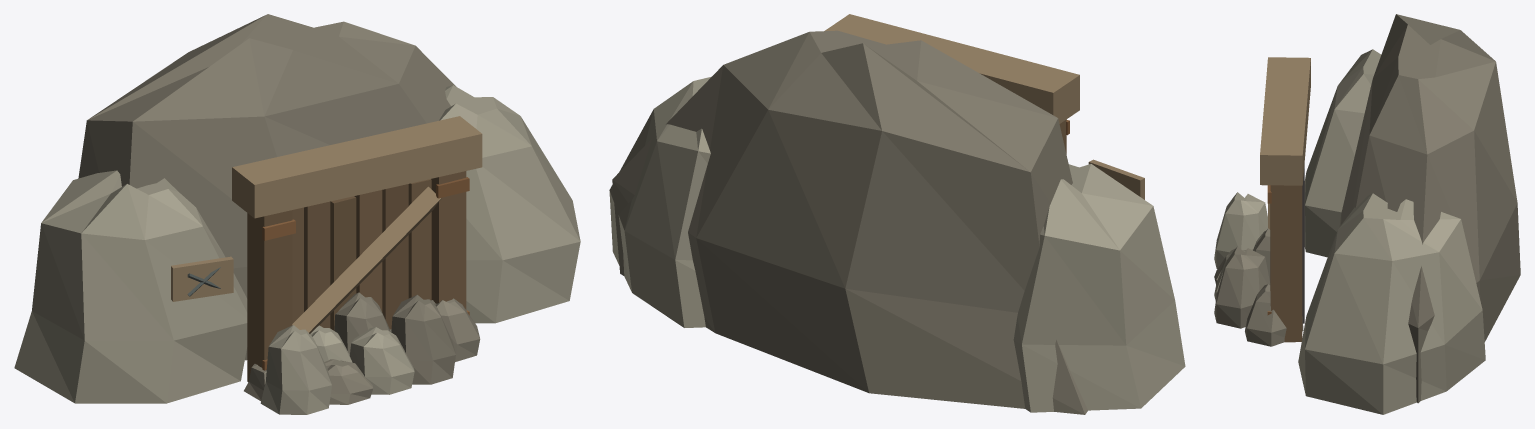
Rendered from sealed-mine-mouth.glb.
3 renders of one model, left to right at view 1: azimuth 30°, elevation 25°; view 2: azimuth 150°, elevation 25°; view 3: azimuth 270°, elevation 25°, orthographic. The views are drawn at different scales.
Visible parts, largest first — view 1: sealed-mine-mouth; view 2: sealed-mine-mouth; view 3: sealed-mine-mouth.
Part boxes in pixels (x1,y1,x2,y2): sealed-mine-mouth: [14, 14, 580, 414]; sealed-mine-mouth: [609, 14, 1185, 414]; sealed-mine-mouth: [1214, 14, 1520, 414].
Size of the model in its own units: 6.3 by 3.26 by 3.51.
